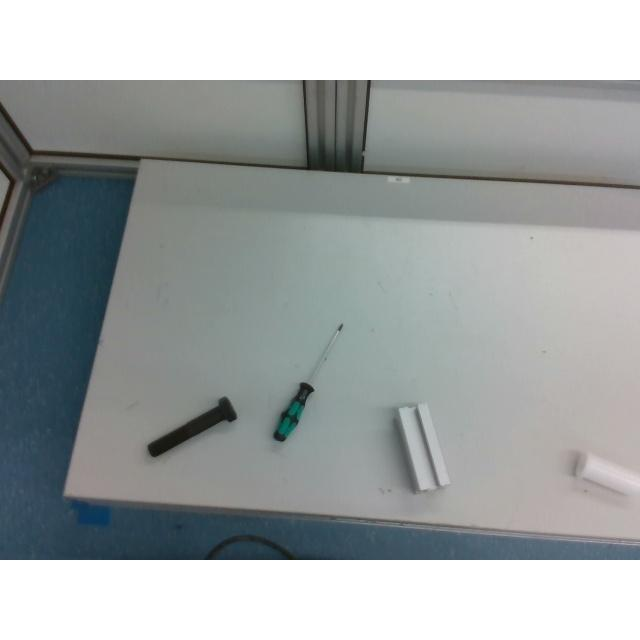M20_100: (146, 396, 236, 456)
S40_40_G: (397, 404, 449, 490)
Screwdriver: (272, 322, 344, 442)
Spacer: (574, 452, 638, 492)
